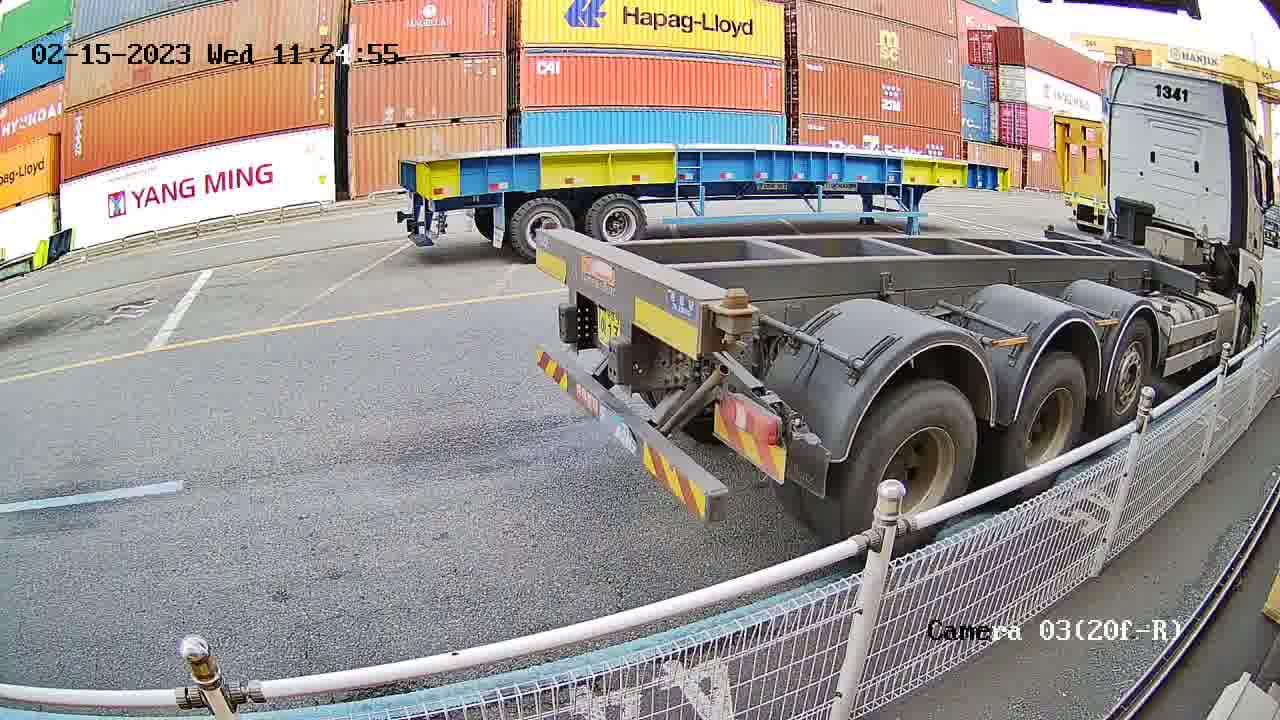Chassis: (534, 223, 757, 361)
Cone: (714, 287, 753, 350)
Tire: (847, 384, 981, 529), (1009, 354, 1088, 476), (1106, 319, 1155, 429)
